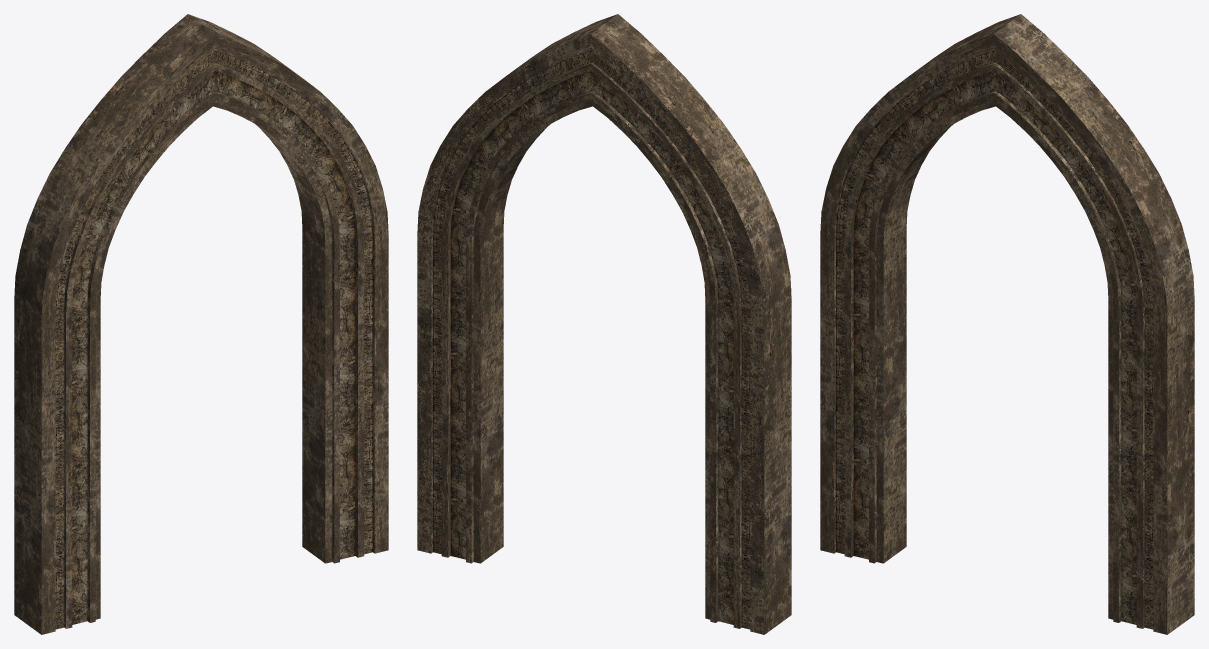
The model's file is materials_5_gate_7.fbx.
3 renders of one model, left to right at view 1: azimuth 30°, elevation 25°; view 2: azimuth 150°, elevation 25°; view 3: azimuth 330°, elevation 25°, orthographic.
Visible parts, largest first — view 1: materials_5_gate_7; view 2: materials_5_gate_7; view 3: materials_5_gate_7.
Part boxes in pixels (x1=…): materials_5_gate_7: x1=14, y1=14, x2=388, y2=634; materials_5_gate_7: x1=417, y1=14, x2=791, y2=634; materials_5_gate_7: x1=820, y1=14, x2=1194, y2=634.
Size of the model in its own units: 161 by 248 by 21.98.
